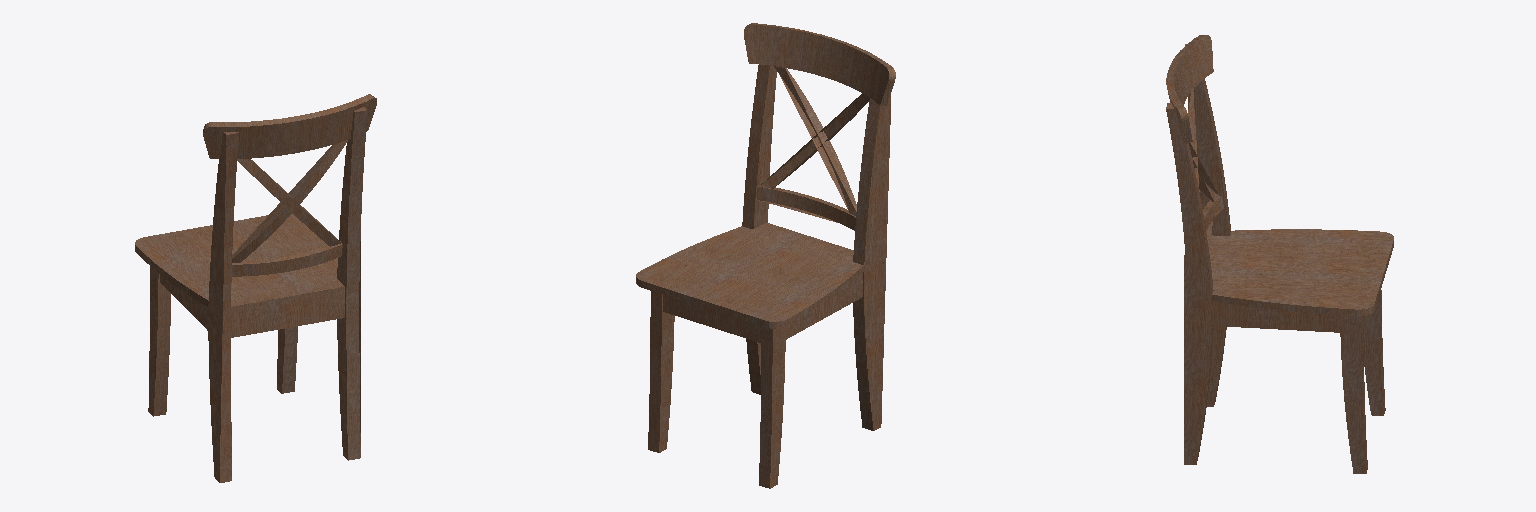
3 renders of one model, left to right at view 1: azimuth 30°, elevation 25°; view 2: azimuth 150°, elevation 25°; view 3: azimuth 270°, elevation 25°, orthographic.
Parts seen in each view (by area): view 1: Mesh1 Ikea_Dining_Chair1 Component_6_1 Model; view 2: Mesh1 Ikea_Dining_Chair1 Component_6_1 Model; view 3: Mesh1 Ikea_Dining_Chair1 Component_6_1 Model.
Part boxes in pixels (x1,y1,x2,y2): Mesh1 Ikea_Dining_Chair1 Component_6_1 Model: (135, 94, 376, 482); Mesh1 Ikea_Dining_Chair1 Component_6_1 Model: (636, 23, 895, 488); Mesh1 Ikea_Dining_Chair1 Component_6_1 Model: (1166, 35, 1393, 473).
Bounding box in the file's own units: 7.41 × 14.2 × 8.12.
1 materials, 1 textured.